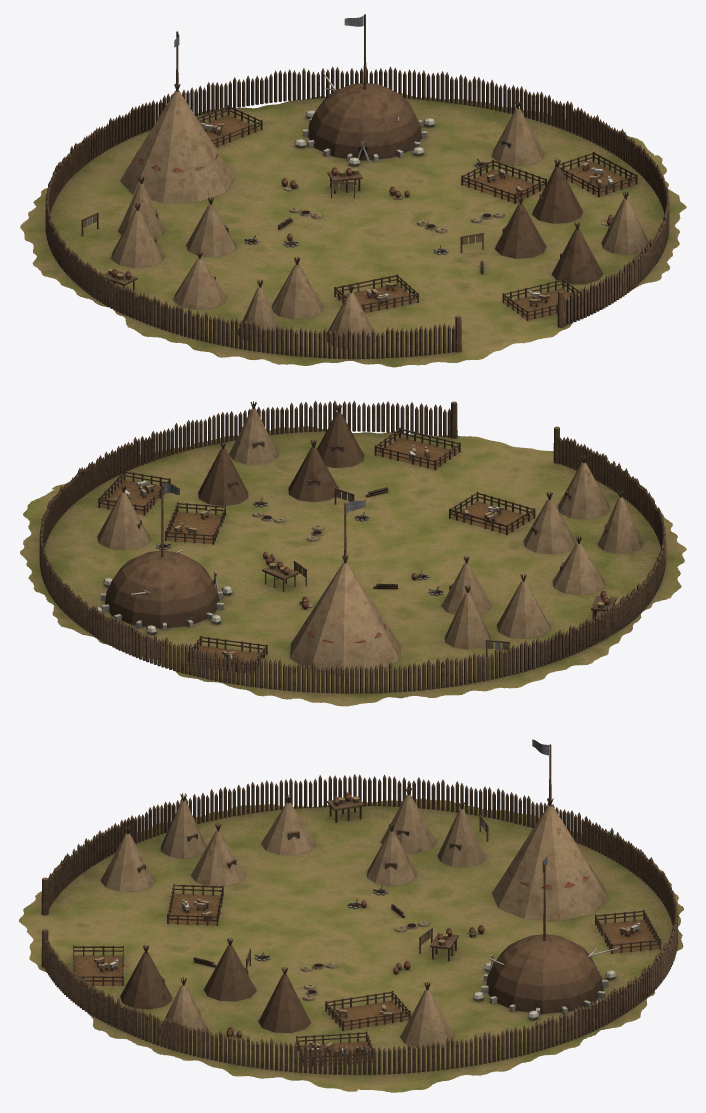
File: stone-town-medium-a-steppe.glb
3 renders of one model, top to bottom at view 1: azimuth 30°, elevation 25°; view 2: azimuth 150°, elevation 25°; view 3: azimuth 270°, elevation 25°, orthographic. The views are drawn at different scales.
Parts seen in each view (by area): view 1: LOD0; view 2: LOD0; view 3: LOD0.
Part boxes in pixels (bbox=[...]): LOD0: bbox=[20, 14, 686, 367]; LOD0: bbox=[20, 400, 686, 706]; LOD0: bbox=[19, 739, 683, 1092].
Size of what is drawn, in the model's own units: 6.05 by 1.45 by 5.75.
Materials: 3 (3 with a texture image).
